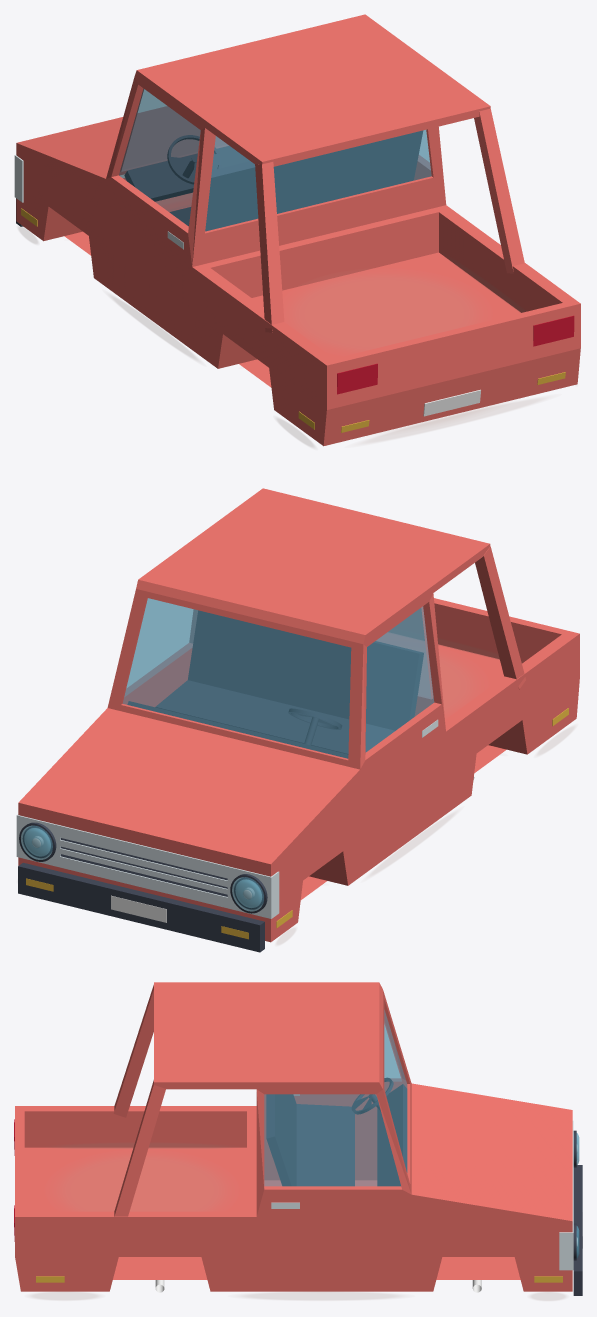
The model's file is hull.glb.
3 views of the same model, one above another, from view 1: azimuth 30°, elevation 25°; view 2: azimuth 150°, elevation 25°; view 3: azimuth 270°, elevation 25° (orthographic). The views are drawn at different scales.
Visible parts, largest first — view 1: Cube_2_3, Cube_2_3_Mat.1_0.001, Cube_Mat.2_0, Cube_13, Cube_1_2, Cube_2_2, Cube_15, Cube_1, Cube_11, Cube_12, Cube_10, Cylinder (+1 smaller); view 2: Cube_2_3, Cube_2_3_Mat.1_0.001, Cube_13, Cube_3_2, Cube_4, Cube_14, Cube_1_2, Cube_Mat.2_0, Cylinder_2, Cylinder_2_3, Cube_15, Cube_5 (+3 smaller); view 3: Cube_2_3, Cube_2_3_Mat.1_0.001, Cube_Mat.2_0, Cube_14, Cube_13, Cube_15, Cube_2_2, Cube_1_2, Cube_4, Cube_2, Cube_3_2, Cube_1.
Boxes of the visible parts, x1,y1,x2,y2 form: Cube_2_3: (16, 14, 580, 446); Cube_2_3_Mat.1_0.001: (119, 88, 431, 231); Cube_Mat.2_0: (296, 261, 525, 349); Cube_13: (188, 130, 422, 231); Cube_1_2: (255, 162, 284, 332); Cube_2_2: (474, 108, 524, 273); Cube_15: (124, 146, 249, 201); Cube_1: (277, 399, 540, 446); Cube_11: (533, 315, 574, 346); Cube_12: (337, 363, 377, 394); Cube_10: (423, 389, 480, 416); Cylinder: (167, 135, 221, 184); Cube_2_3: (18, 488, 579, 942); Cube_2_3_Mat.1_0.001: (123, 598, 434, 758); Cube_13: (188, 610, 423, 730); Cube_3_2: (16, 814, 279, 918); Cube_4: (18, 862, 264, 952); Cube_14: (155, 680, 394, 754); Cube_1_2: (475, 546, 525, 689); Cube_Mat.2_0: (438, 639, 498, 710); Cylinder_2: (19, 822, 56, 861); Cylinder_2_3: (230, 874, 267, 913); Cube_15: (127, 701, 348, 758); Cube_5: (111, 895, 166, 922); Cube_2_3: (15, 982, 572, 1291); Cube_2_3_Mat.1_0.001: (264, 1010, 407, 1186); Cube_Mat.2_0: (63, 1143, 220, 1210); Cube_14: (296, 1104, 354, 1186); Cube_13: (266, 1094, 296, 1186); Cube_15: (377, 1084, 407, 1186); Cube_2_2: (114, 1080, 165, 1216); Cube_1_2: (113, 985, 153, 1117); Cube_4: (573, 1165, 582, 1295); Cube_2: (246, 1292, 396, 1299); Cube_3_2: (559, 1120, 573, 1270); Cube_1: (32, 1292, 97, 1299).
Size of the model in its own units: 0.6268 by 0.5548 by 1.31.
10 materials, 1 textured.
